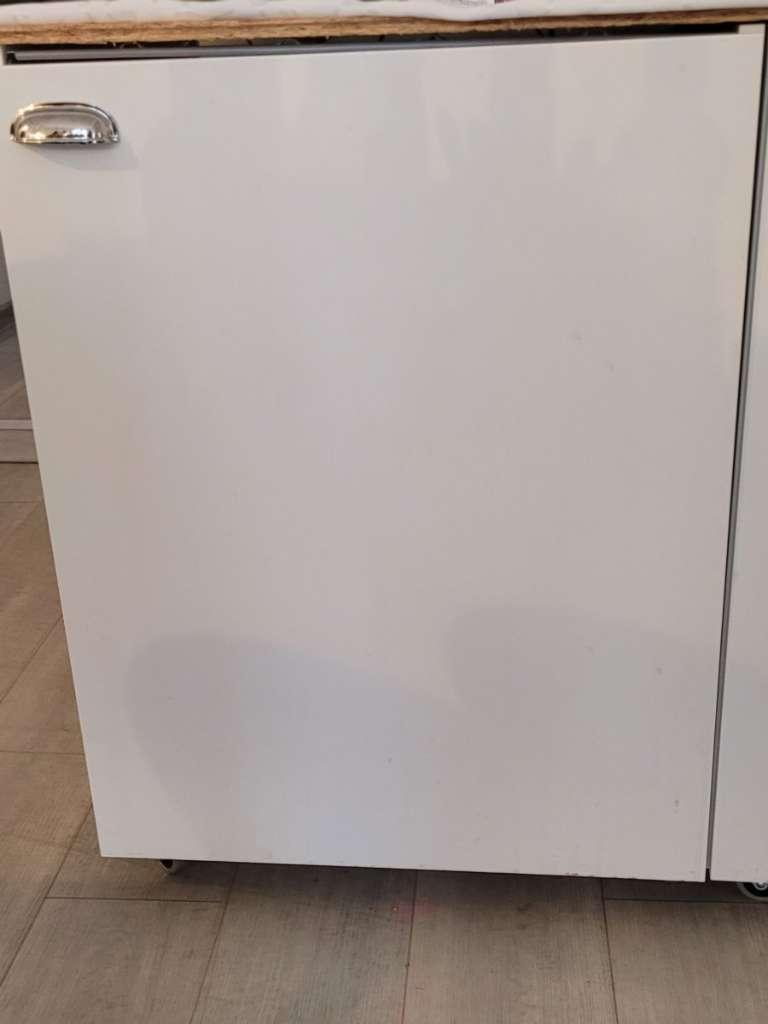cabinet_door: (40, 48, 740, 877)
handle: (8, 93, 122, 158)
